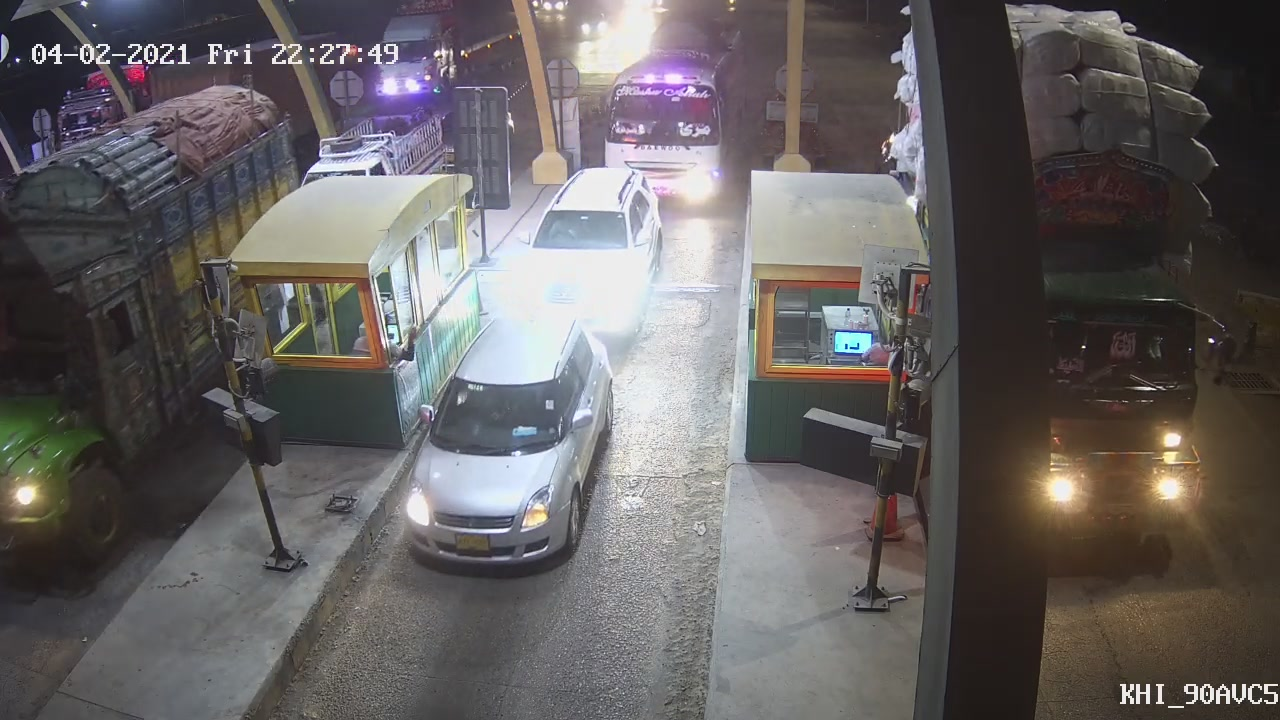F1: (400, 313, 620, 572)
